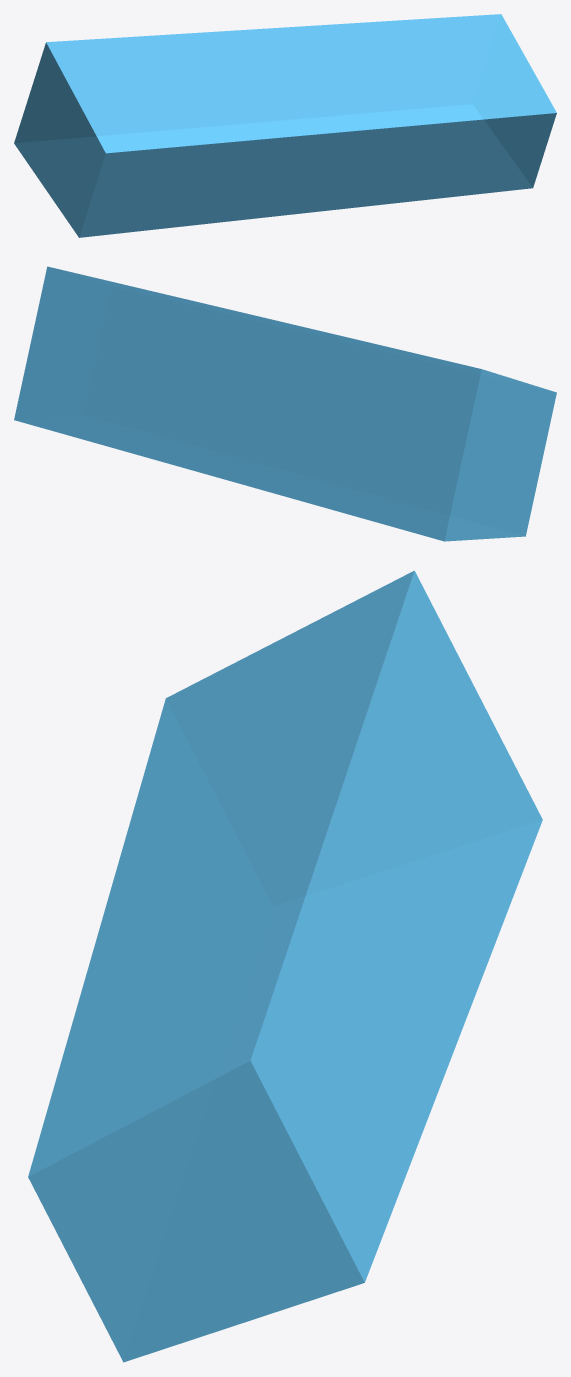
Rendered from Event_421556567_HErechit_17.fbx.
The picture shows the model from 3 angles, top to bottom: view 1: azimuth 30°, elevation 25°; view 2: azimuth 150°, elevation 25°; view 3: azimuth 270°, elevation 25°; orthographic projection. The views are drawn at different scales.
Parts seen in each view (by area): view 1: Model; view 2: Model; view 3: Model.
Boxes of the visible parts, x1,y1,x2,y2 form: Model: [14, 14, 556, 237]; Model: [14, 266, 556, 541]; Model: [28, 570, 542, 1362].
Size of the model in its own units: 1.25 by 0.5553 by 0.6682.
